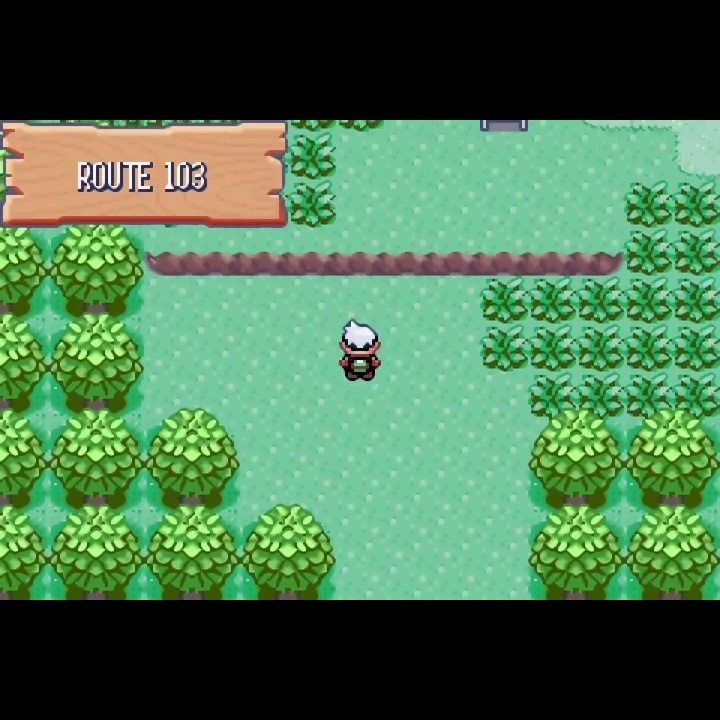grass: (623, 273, 673, 323), (478, 325, 530, 373), (477, 277, 530, 324), (625, 227, 674, 277), (625, 322, 674, 372), (286, 180, 337, 228), (576, 323, 625, 372), (529, 324, 577, 373), (625, 180, 674, 228), (671, 276, 720, 324), (529, 371, 577, 419), (577, 276, 625, 324), (625, 371, 673, 419), (287, 133, 336, 180), (529, 276, 576, 325), (673, 371, 720, 420), (673, 228, 720, 277), (673, 179, 720, 228), (578, 372, 625, 420), (672, 324, 720, 371)
npc: (337, 317, 384, 387)
wall: (623, 407, 720, 507), (144, 408, 241, 508), (239, 503, 336, 600), (48, 504, 146, 600), (49, 408, 145, 506), (528, 408, 623, 507), (622, 504, 720, 599), (144, 502, 239, 600), (50, 314, 146, 410), (528, 504, 624, 598), (50, 225, 146, 317), (1, 312, 49, 409), (1, 408, 48, 506), (1, 505, 48, 600), (1, 227, 50, 314)
